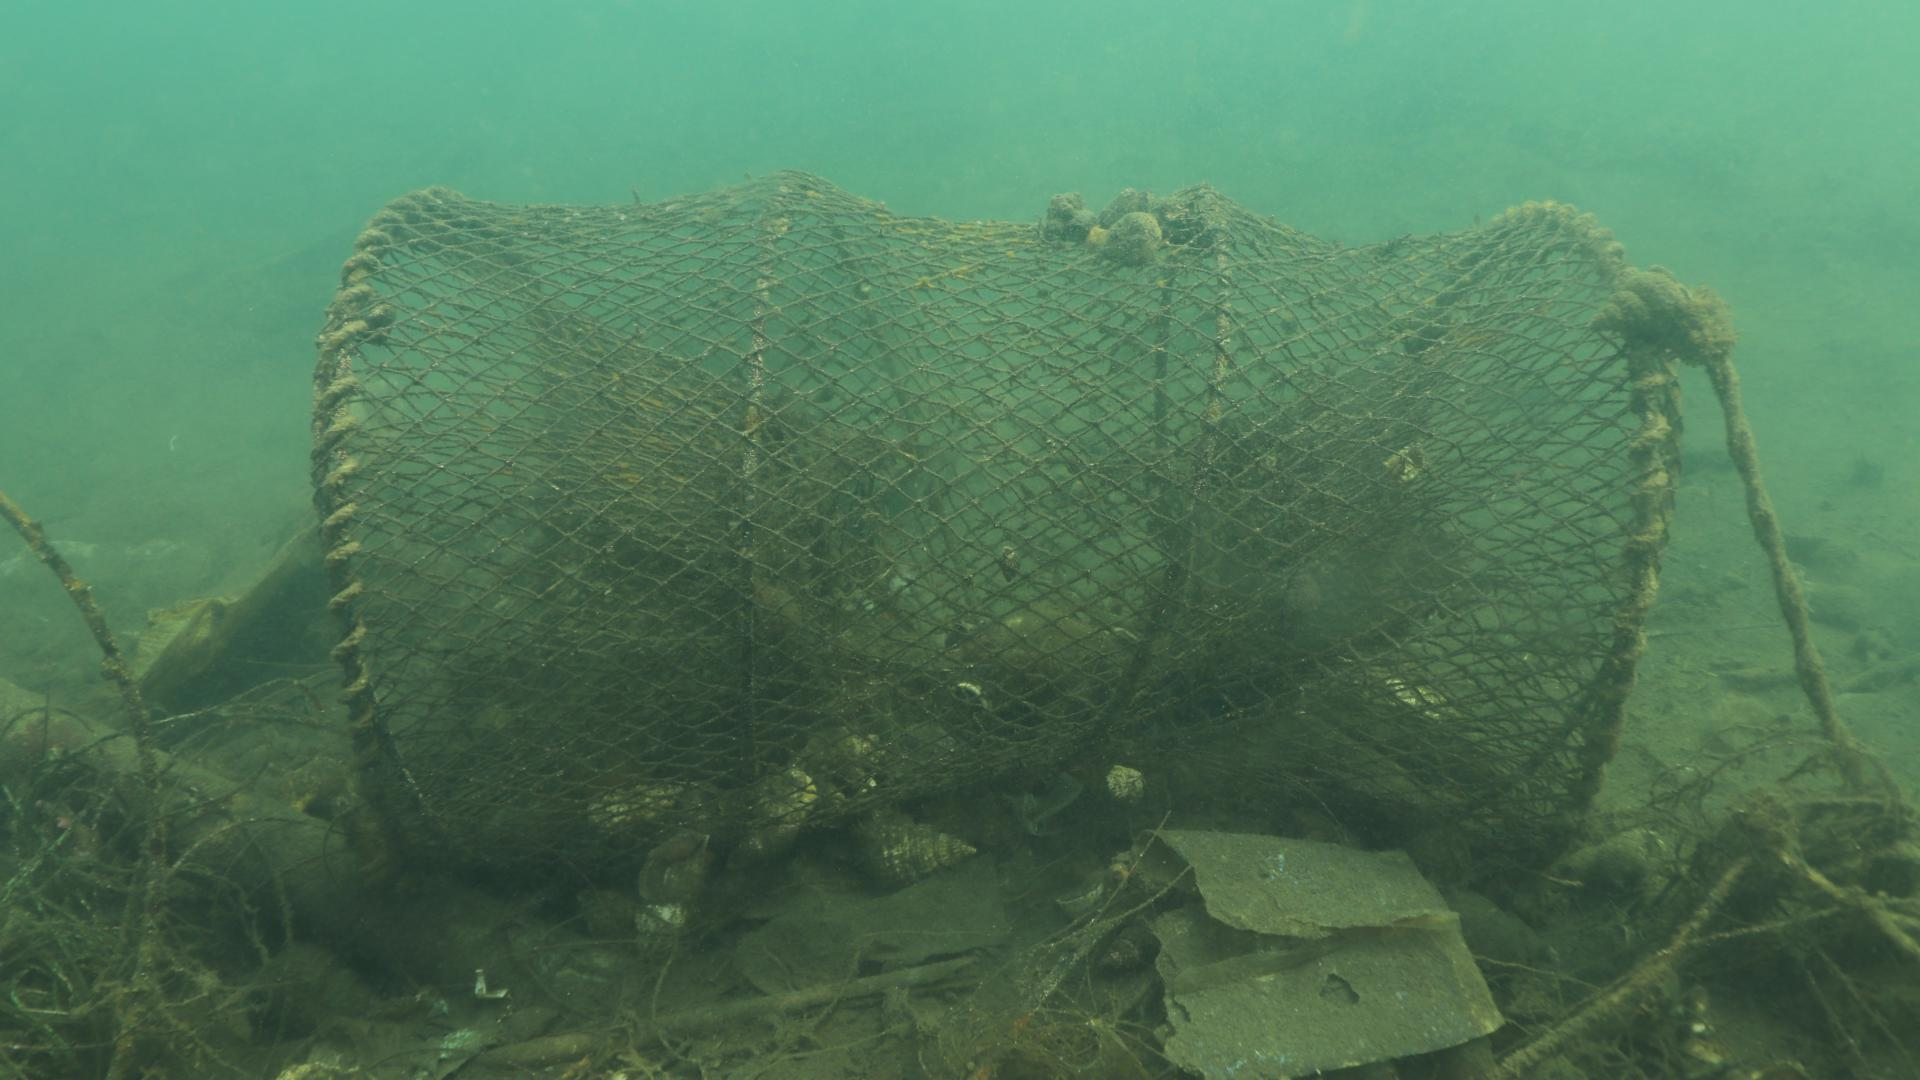bundle of ropes: (1501, 327, 1920, 1080)
spring fish trap: (305, 165, 1680, 889)
